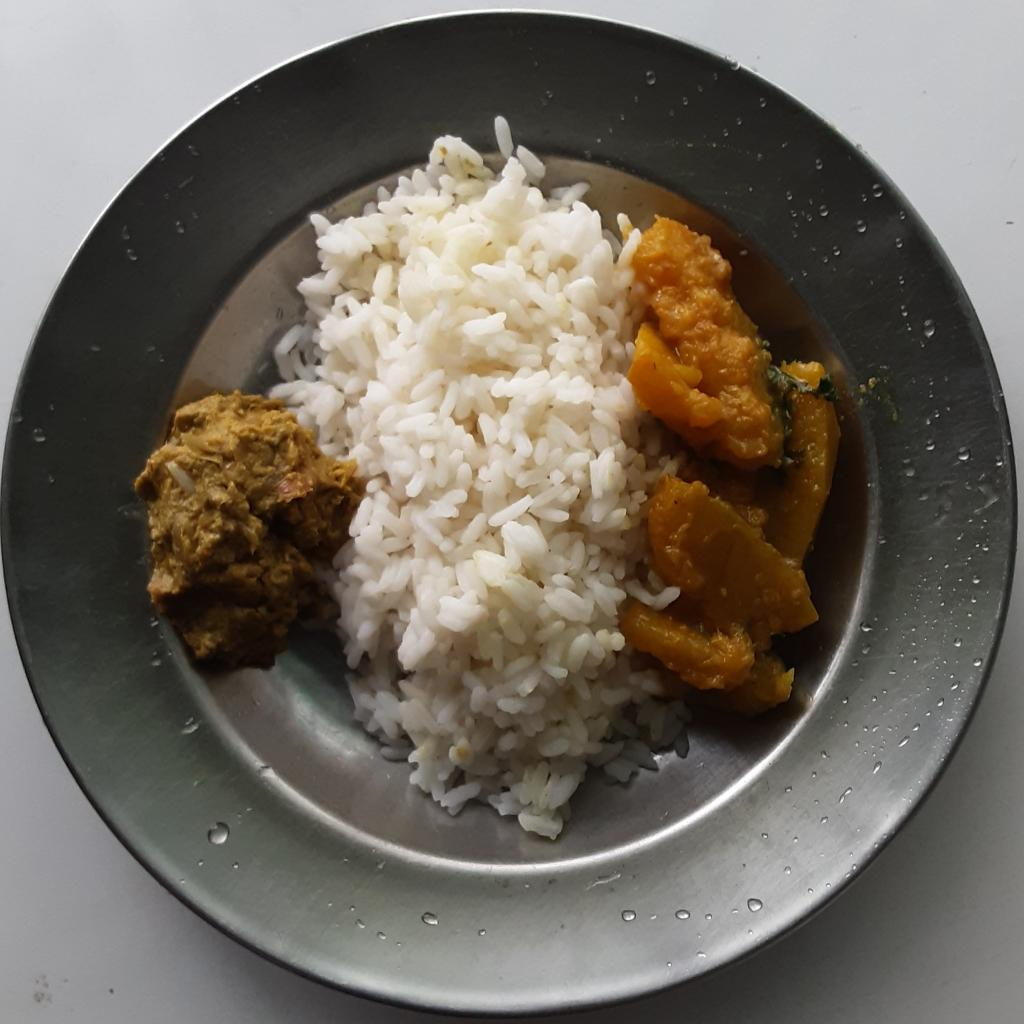kumra-vaji: (620, 213, 844, 722)
rice: (267, 109, 697, 844)
vorta: (129, 388, 361, 674)
